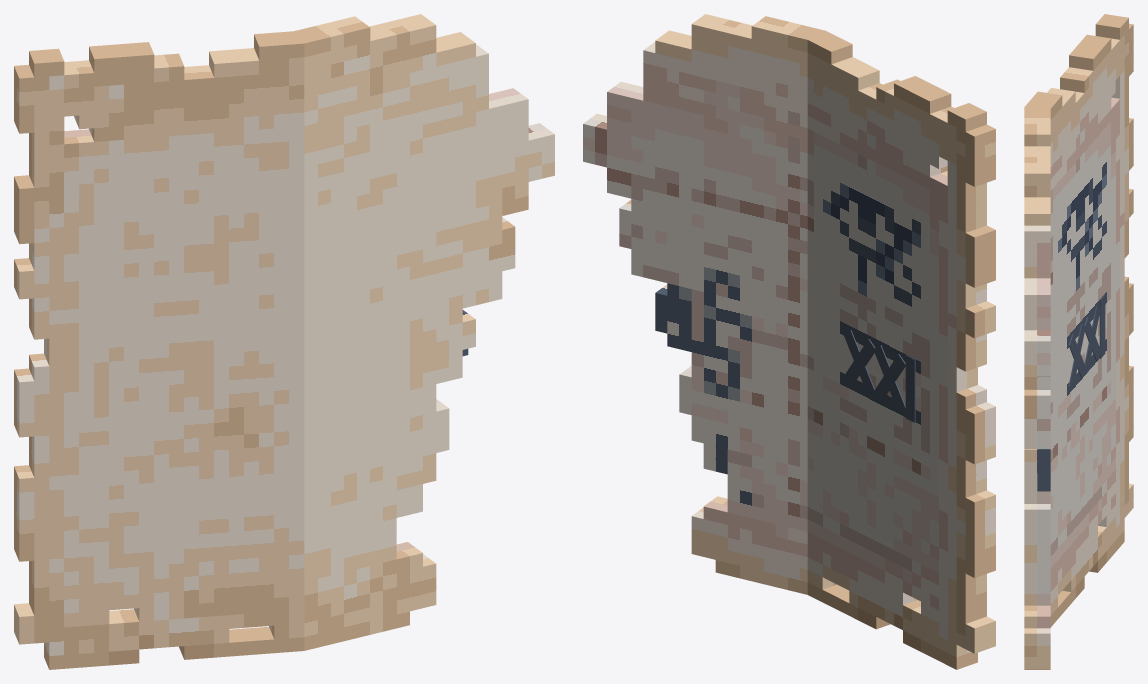
The model's file is lost_page_08U_XXI.gltf.
3 renders of one model, left to right at view 1: azimuth 30°, elevation 25°; view 2: azimuth 150°, elevation 25°; view 3: azimuth 270°, elevation 25°, orthographic. The views are drawn at different scales.
Visible parts, largest first — view 1: MapLeft$$(4)-Local, MapCenter$$(4)-Local; view 2: MapLeft$$(4)-Local, MapCenter$$(4)-Local, I-Local, V01$$(1)-Local, V01-Local; view 3: MapLeft$$(4)-Local, MapCenter$$(4)-Local, I-Local, V01-Local, V01$$(1)-Local, V02-Local, V02$$(1)-Local.
Part boxes in pixels (x1,y1,x2,y2): MapLeft$$(4)-Local: [14, 31, 304, 669]; MapCenter$$(4)-Local: [294, 14, 554, 650]; MapLeft$$(4)-Local: [805, 31, 995, 669]; MapCenter$$(4)-Local: [583, 14, 825, 594]; I-Local: [905, 355, 915, 422]; V01$$(1)-Local: [873, 345, 905, 413]; V01-Local: [843, 330, 875, 398]; MapLeft$$(4)-Local: [1025, 14, 1133, 627]; MapCenter$$(4)-Local: [1024, 107, 1050, 669]; I-Local: [1099, 294, 1105, 358]; V01-Local: [1068, 334, 1085, 378]; V01$$(1)-Local: [1084, 317, 1100, 361]; V02-Local: [1068, 324, 1085, 389]; V02$$(1)-Local: [1084, 306, 1100, 372].
Size of the model in its own units: 36.85 by 44 by 8.38.
7 materials, 7 textured.
